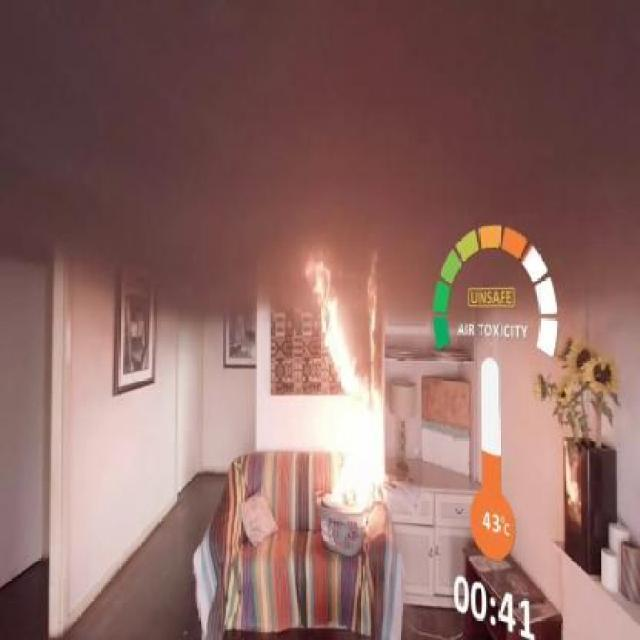fire: (300, 250, 400, 552)
smoke: (98, 26, 476, 246)
